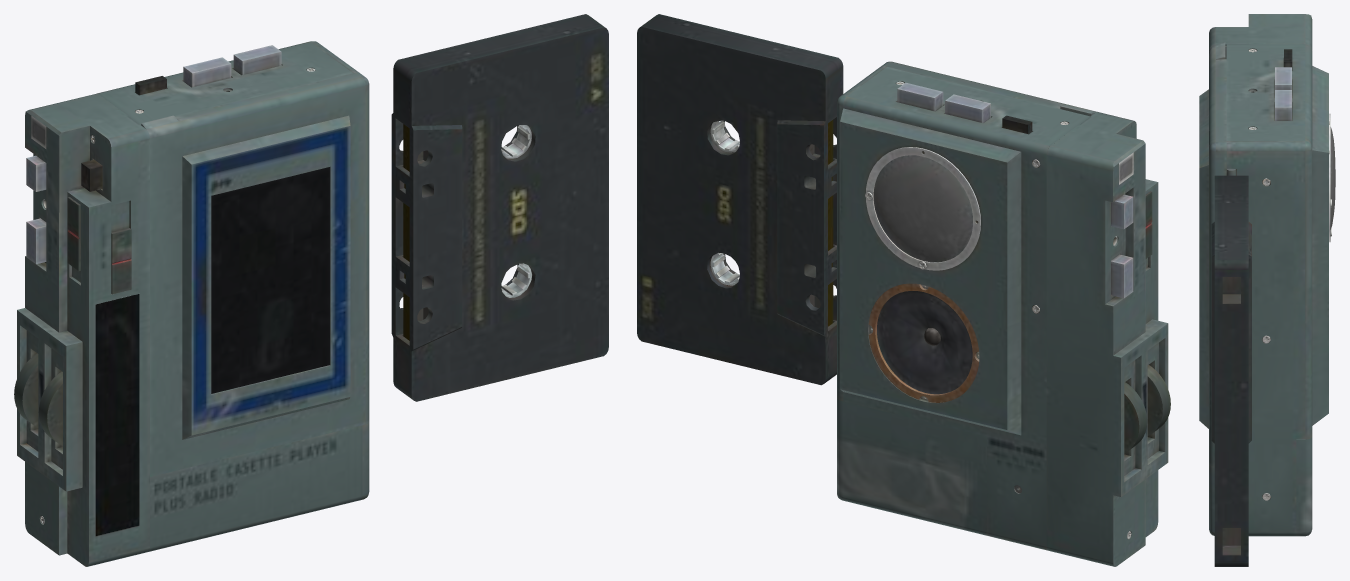
The model's file is portable_cassette_player.glb.
The picture shows the model from 3 angles, left to right: view 1: azimuth 30°, elevation 25°; view 2: azimuth 150°, elevation 25°; view 3: azimuth 270°, elevation 25°; orthographic projection. The views are drawn at different scales.
Visible parts, largest first — view 1: portable_cassette_player, portable_cassette_player_lid, portable_cassette_player_casette; view 2: portable_cassette_player, portable_cassette_player_casette, portable_cassette_player_lid; view 3: portable_cassette_player, portable_cassette_player_casette, portable_cassette_player_lid.
Part boxes in pixels (x1,y1,x2,y2): portable_cassette_player: (14, 41, 369, 566); portable_cassette_player_lid: (141, 72, 369, 476); portable_cassette_player_casette: (391, 14, 608, 401); portable_cassette_player: (837, 66, 1170, 566); portable_cassette_player_casette: (637, 14, 843, 385); portable_cassette_player_lid: (881, 61, 1097, 116); portable_cassette_player: (1209, 14, 1335, 536); portable_cassette_player_casette: (1211, 175, 1251, 566); portable_cassette_player_lid: (1199, 42, 1235, 466).
Size of the model in its own units: 0.1723 by 0.1303 by 0.0397.
Materials: 2 (2 with a texture image).
